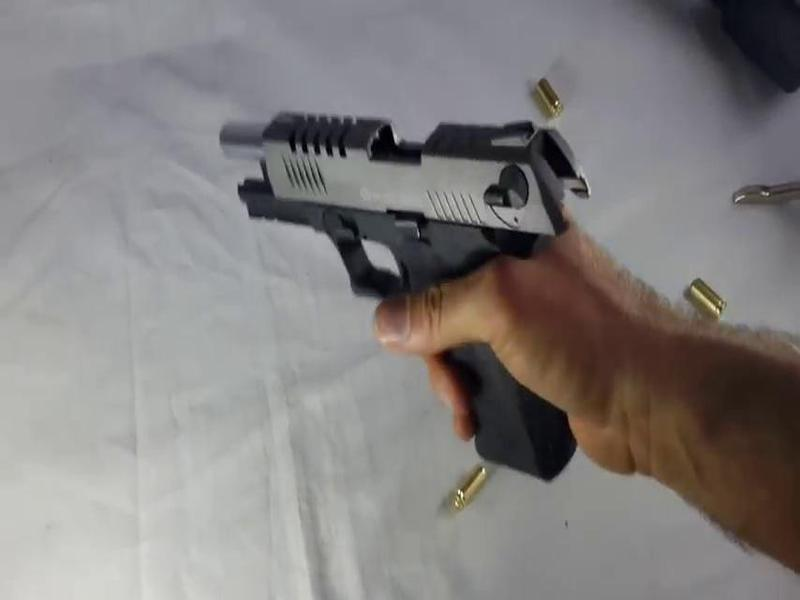Pistola: (220, 72, 624, 503)
